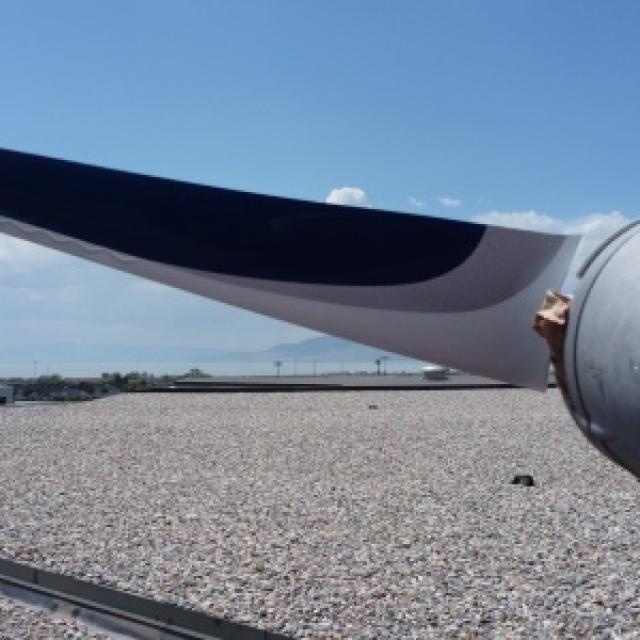healthy: (0, 147, 638, 474)
